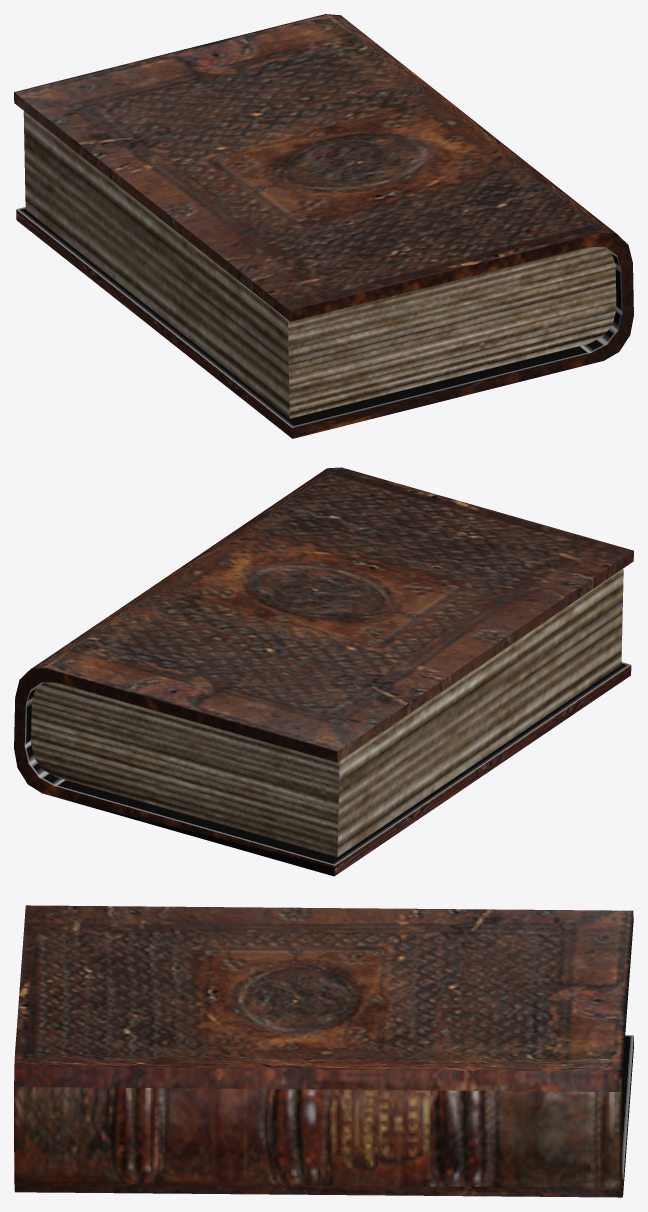
Rendered from big_brown_book.fbx.
3 views of the same model, one above another, from view 1: azimuth 30°, elevation 25°; view 2: azimuth 150°, elevation 25°; view 3: azimuth 270°, elevation 25° (orthographic). The views are drawn at different scales.
Visible parts, largest first — view 1: pCube39, pCube40; view 2: pCube39, pCube40; view 3: pCube39.
Part boxes in pixels (bbox=[...]): pCube39: bbox=[14, 14, 633, 438]; pCube40: bbox=[23, 111, 616, 418]; pCube39: bbox=[14, 467, 633, 876]; pCube40: bbox=[31, 569, 623, 857]; pCube39: bbox=[14, 905, 633, 1197].
Bounding box in the file's own units: 0.7095 × 0.2656 × 1.03.
2 materials, 2 textured.
